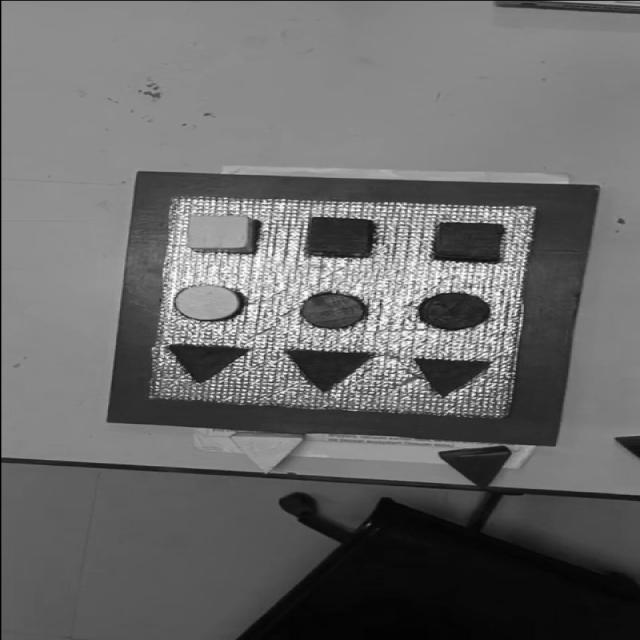bcircle: (417, 293, 492, 330)
bcube: (431, 221, 506, 263)
btriangle: (614, 435, 640, 460)
mttriangle: (283, 348, 373, 392), (412, 356, 492, 398), (165, 344, 249, 382)
rcircle: (298, 292, 367, 329)
rcube: (304, 216, 374, 257)
rtriangle: (439, 446, 511, 488)
wb: (146, 197, 536, 416)
ycircle: (171, 284, 245, 322)
ycube: (185, 213, 253, 252)
ytriangle: (231, 431, 305, 473)
